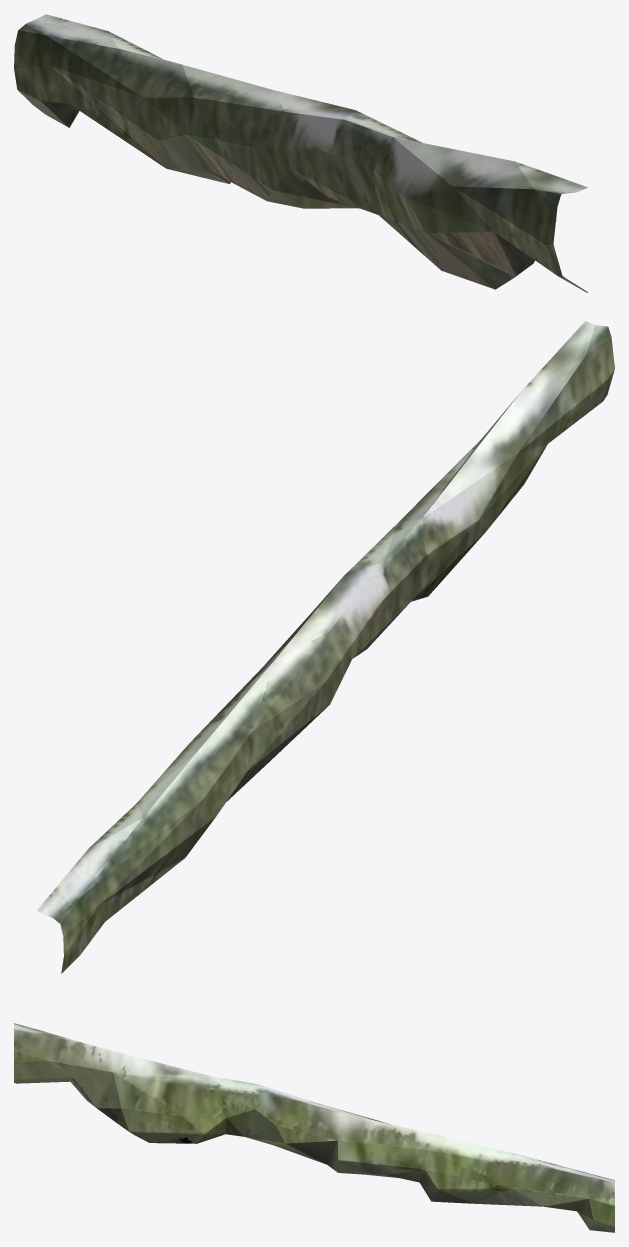
3 views of the same model, one above another, from view 1: azimuth 30°, elevation 25°; view 2: azimuth 150°, elevation 25°; view 3: azimuth 270°, elevation 25° (orthographic). The views are drawn at different scales.
Bounding box in the file's own units: 0.3375 × 1.03 × 2.95.
Materials: 1 (1 with a texture image).
